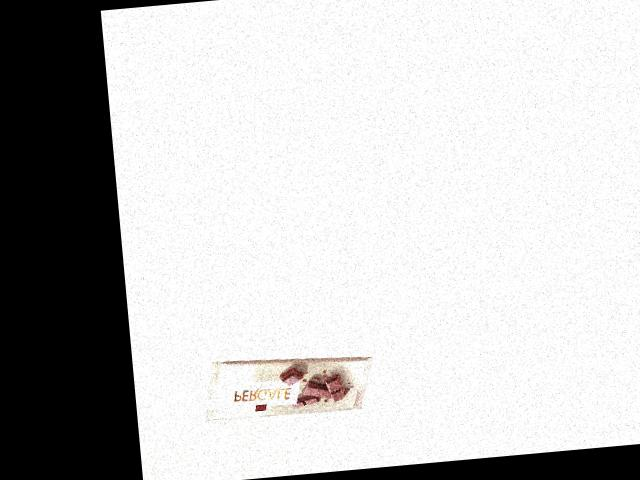chocolate: (198, 349, 380, 422)
